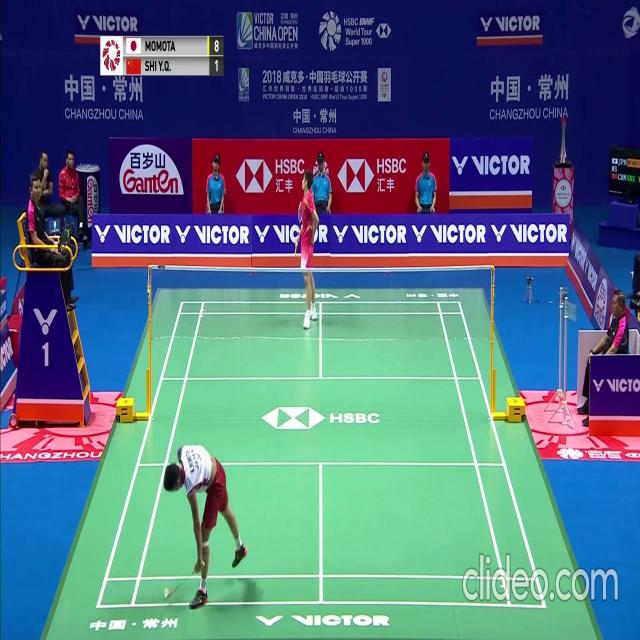Shuttlecock: (163, 589, 168, 597)
